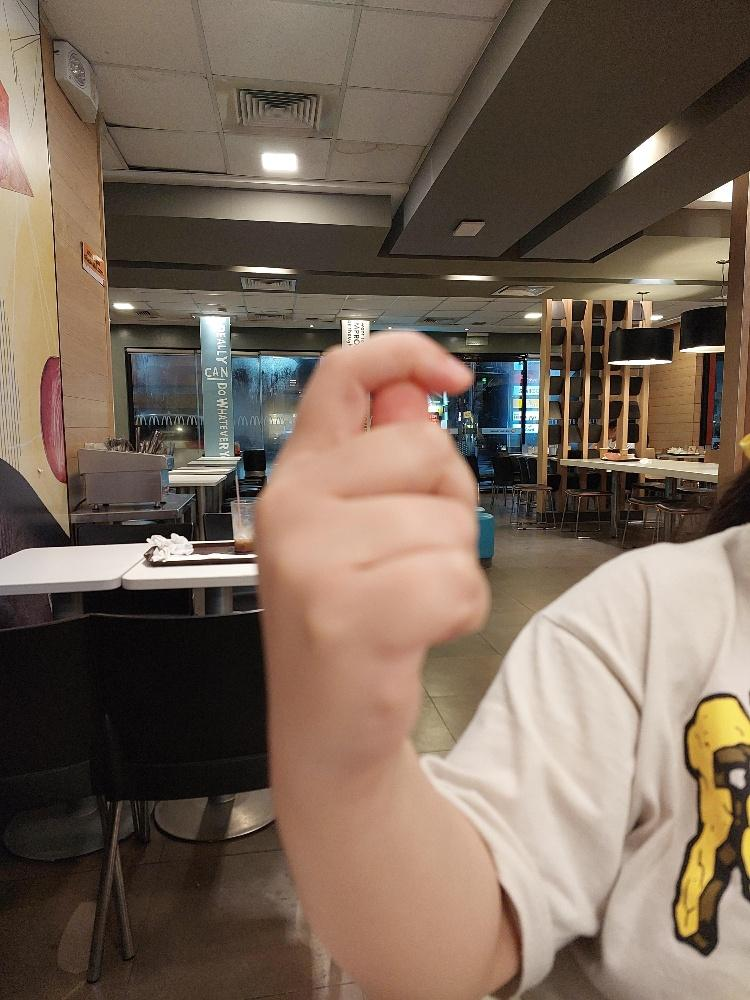t: (250, 326, 494, 797)
